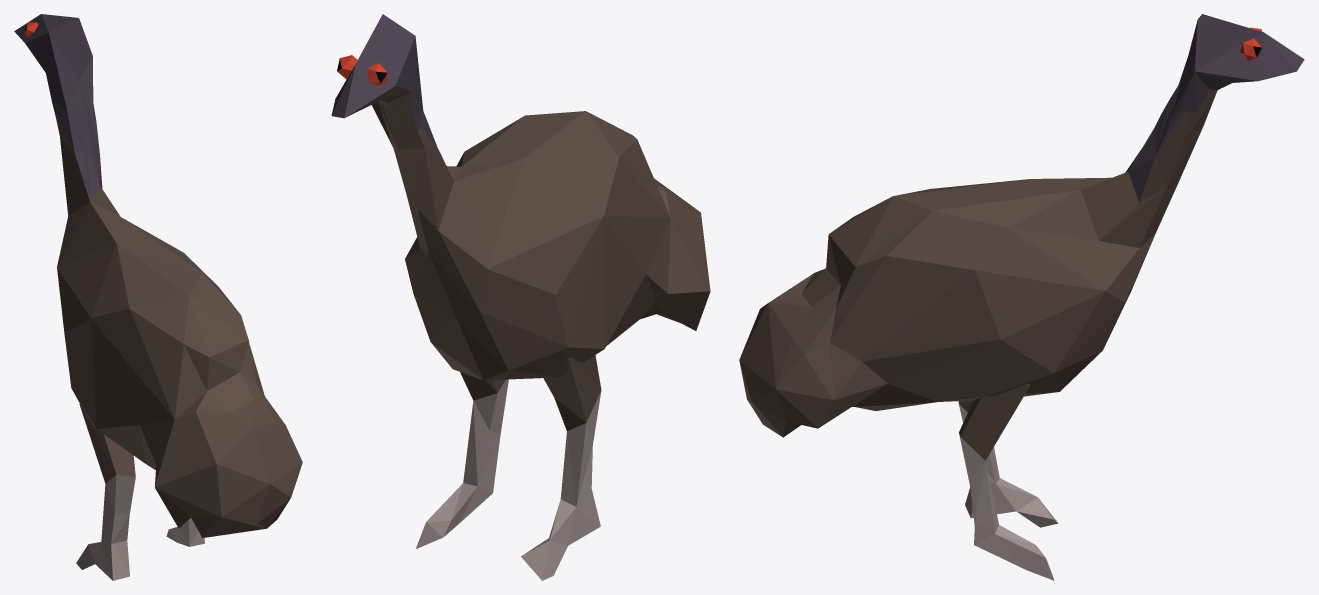
The model's file is LowPoly_Emu.fbx.
The picture shows the model from 3 angles, left to right: view 1: azimuth 30°, elevation 25°; view 2: azimuth 150°, elevation 25°; view 3: azimuth 270°, elevation 25°; orthographic projection. The views are drawn at different scales.
Visible parts, largest first — view 1: Emu; view 2: Emu; view 3: Emu.
Boxes of the visible parts, x1=… form: Emu: x1=14, y1=14, x2=302, y2=580; Emu: x1=331, y1=14, x2=710, y2=580; Emu: x1=739, y1=14, x2=1304, y2=580.
Bounding box in the file's own units: 139 × 466 × 441.
